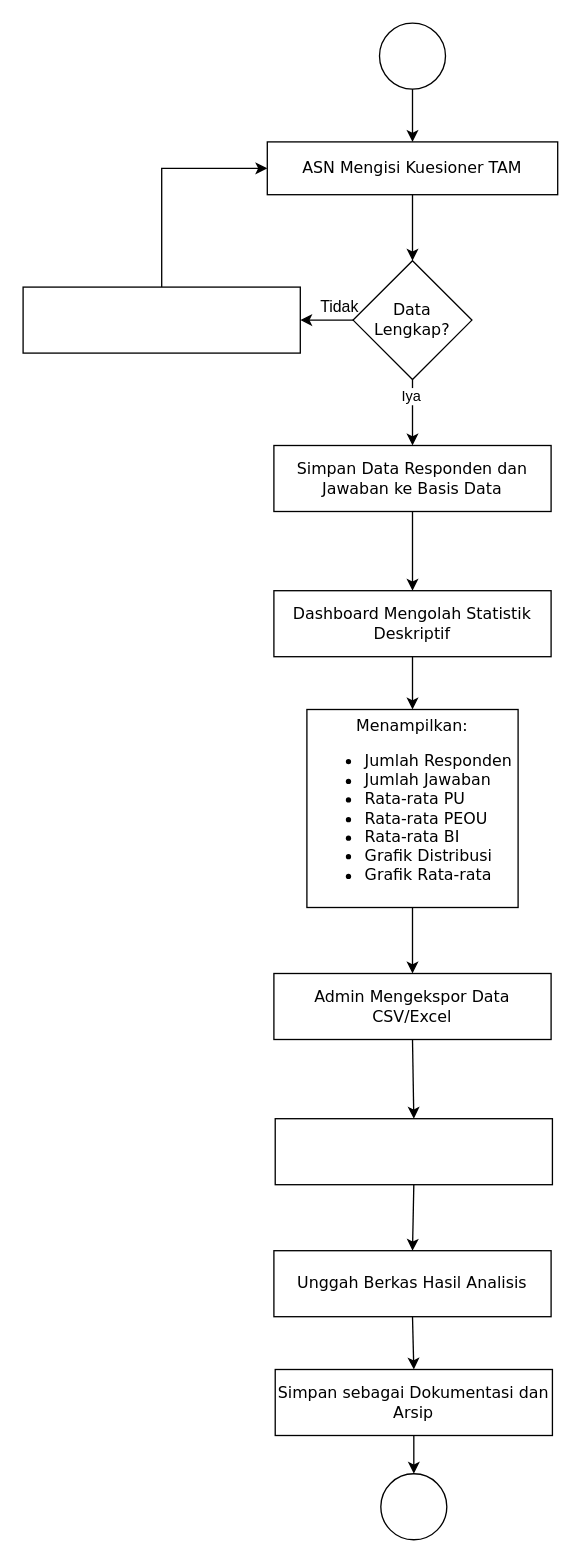
This 581x1563 diagram has some shape labels left out. The centre of each missing label's shape, as x and y in pixels:
Analisis Statistik Menggunakan Jamovi: the point at 413,1151
Menampilkan Pesan Kesalahan: the point at 161,319
Mulai: the point at 412,55
Selesai: the point at 413,1506
